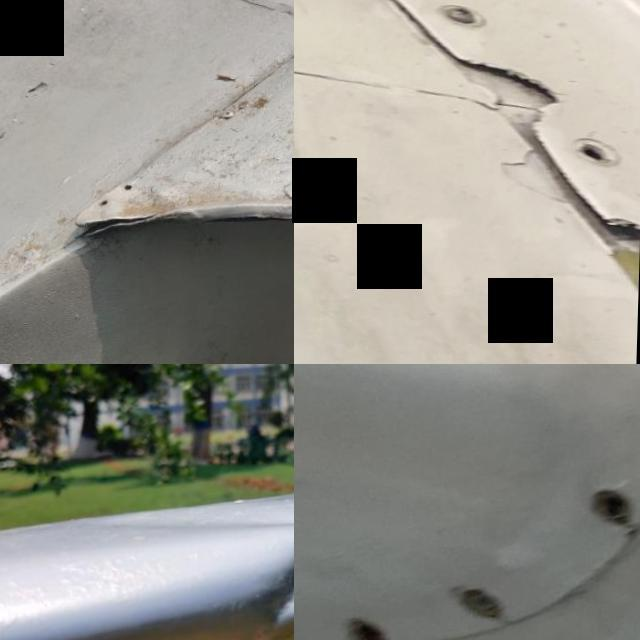Crack: (436, 56, 583, 140), (579, 211, 640, 351), (58, 197, 182, 263), (577, 364, 640, 486)
Dent: (247, 514, 294, 640)
Missing_Fastener: (586, 488, 634, 530), (572, 142, 616, 173), (345, 617, 393, 640)
